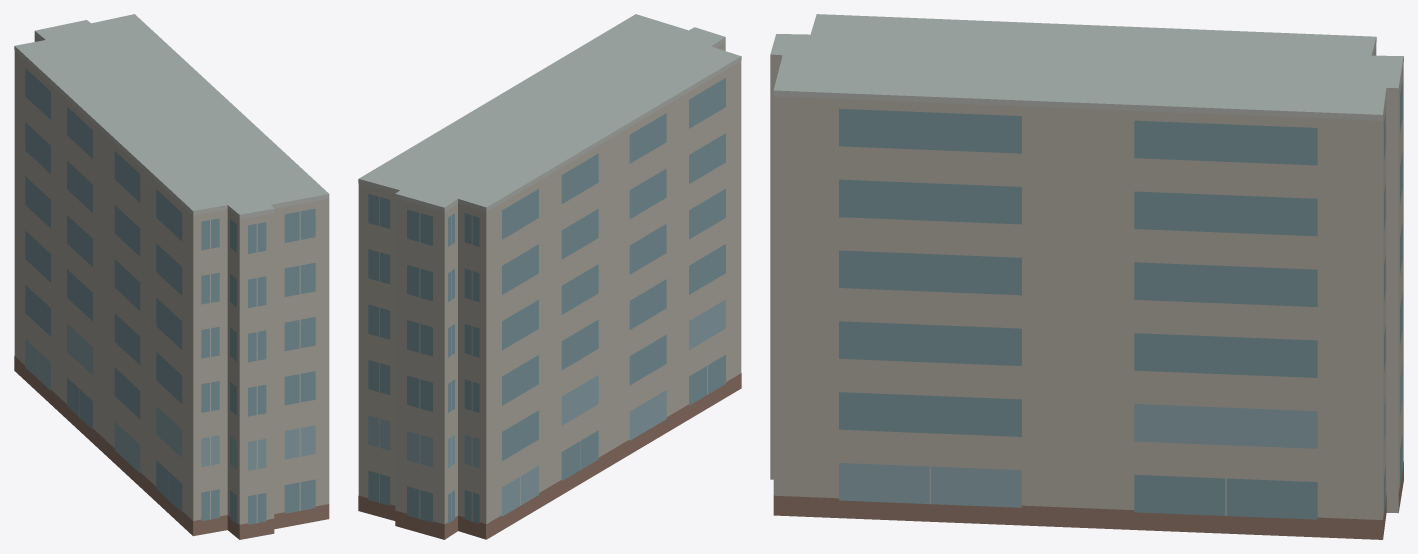
Rendered from survey-upis-33014645.glb.
3 renders of one model, left to right at view 1: azimuth 30°, elevation 25°; view 2: azimuth 150°, elevation 25°; view 3: azimuth 270°, elevation 25°, orthographic. The views are drawn at different scales.
Visible parts, largest first — view 1: survey-upis-33014645.tmp; view 2: survey-upis-33014645.tmp; view 3: survey-upis-33014645.tmp.
Part boxes in pixels (bbox=[...]): survey-upis-33014645.tmp: bbox=[14, 14, 329, 539]; survey-upis-33014645.tmp: bbox=[358, 14, 741, 539]; survey-upis-33014645.tmp: bbox=[770, 14, 1403, 539].
Bounding box in the file's own units: 9.07 × 17.8 × 24.05.
